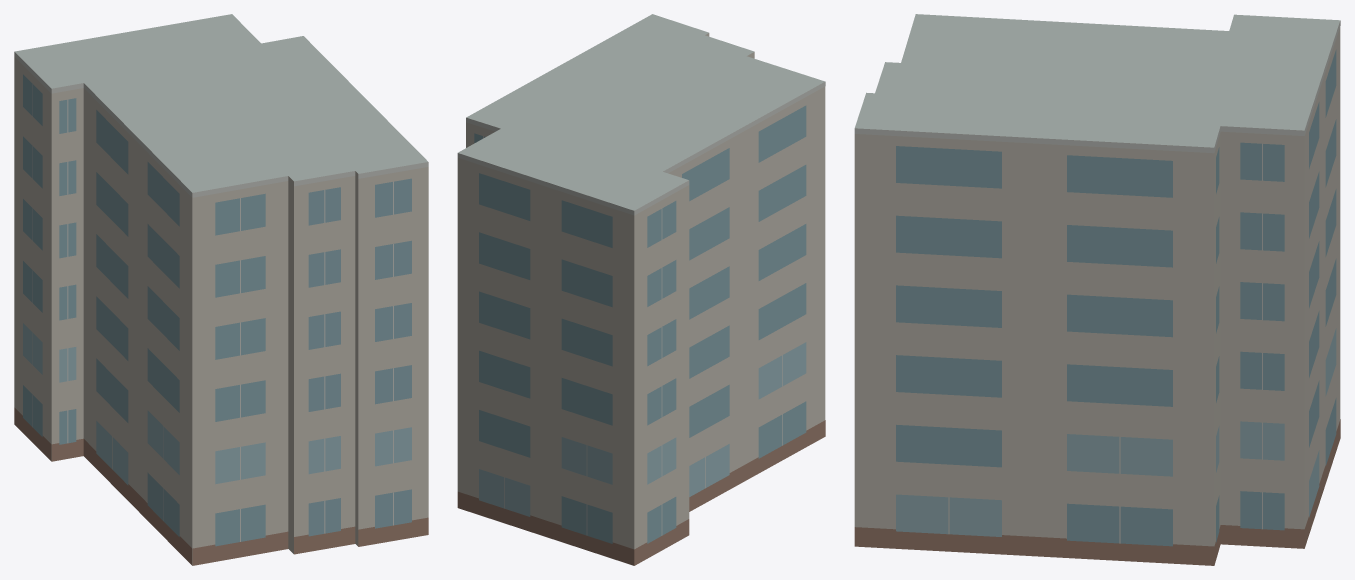
File: survey-upis-32702219.glb
3 views of the same model, side by side, from view 1: azimuth 30°, elevation 25°; view 2: azimuth 150°, elevation 25°; view 3: azimuth 270°, elevation 25° (orthographic). The views are drawn at different scales.
Visible parts, largest first — view 1: survey-upis-32702219.tmp; view 2: survey-upis-32702219.tmp; view 3: survey-upis-32702219.tmp.
Part boxes in pixels (x1,y1,x2,y2): survey-upis-32702219.tmp: (14, 14, 428, 565); survey-upis-32702219.tmp: (457, 14, 825, 565); survey-upis-32702219.tmp: (854, 14, 1340, 565).
Size of the model in its own units: 12.55 by 18.3 by 19.28.
